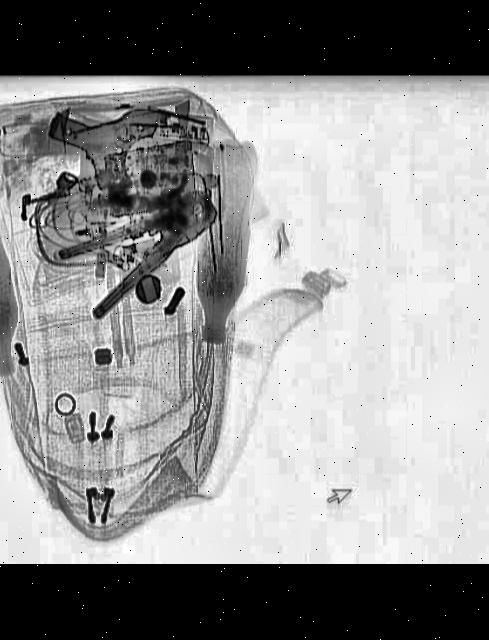Pliers: (45, 173, 238, 318)
